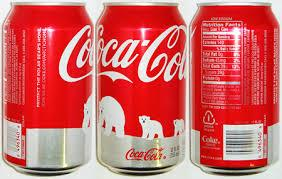Aluminum can: (0, 1, 99, 179), (189, 1, 282, 179), (100, 1, 186, 179)
